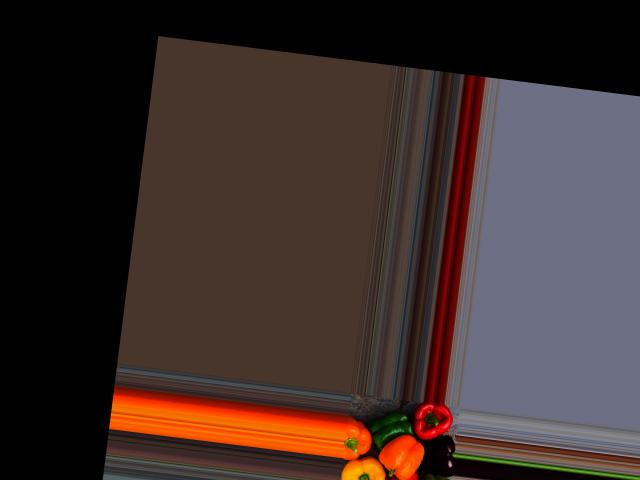bell_pepper: (343, 406, 385, 462)
